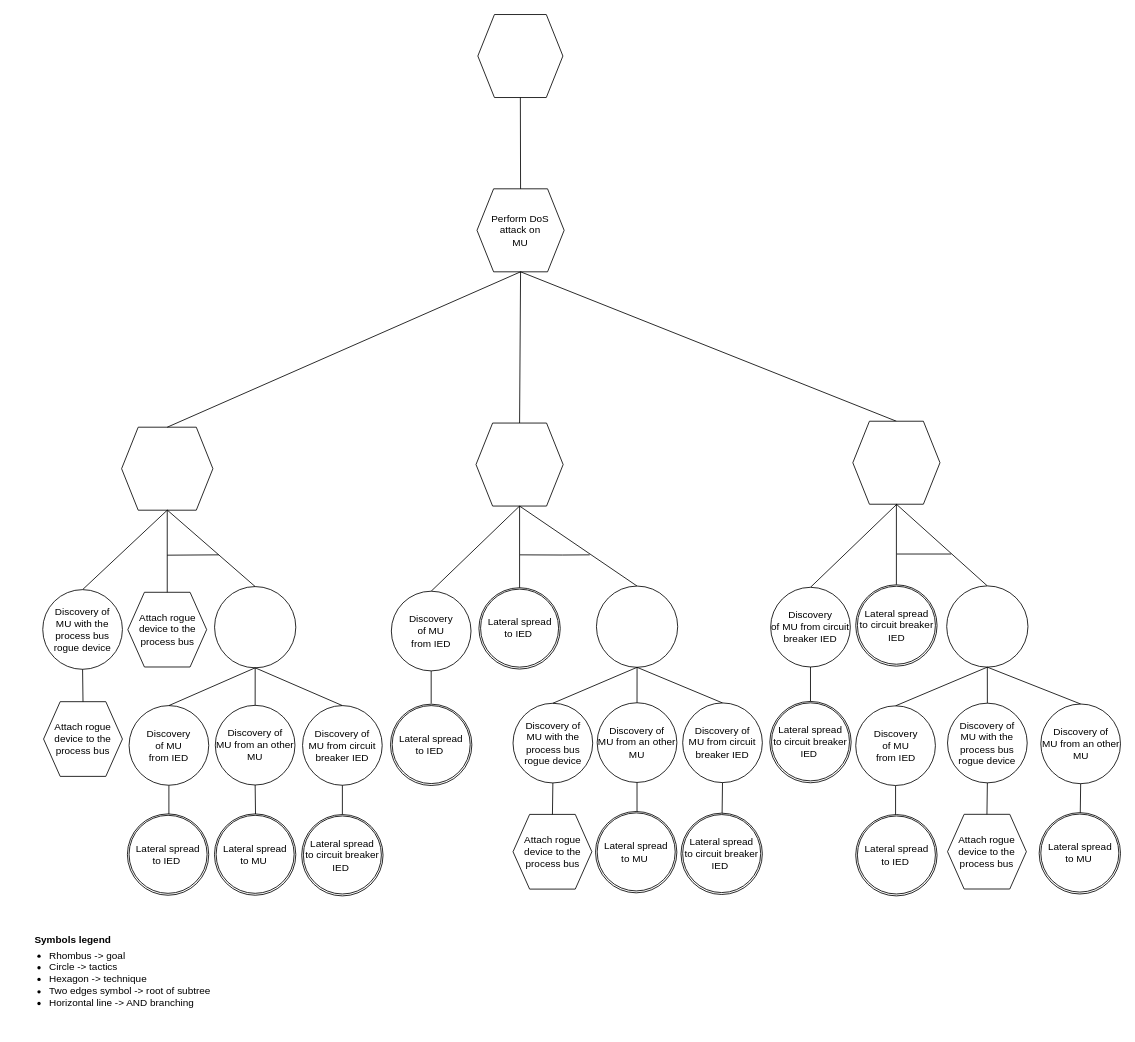
This 1135x1042 diagram has some shape labels left out. Here are the shapes that lost their labels. From the top down, the box of each, then its label:
(477, 14, 563, 98): Perform DoS attack
(121, 426, 213, 510): Perform DoS attack on MU with the process bus rogue device
(475, 422, 563, 506): Perform DoS attack on MU from IED
(852, 420, 940, 504): Perform DoS attack on MU from circuit breaker IED
(214, 586, 296, 668): Discovery of MU without a rogue device
(596, 585, 678, 667): Discovery of MU not from IED
(946, 585, 1028, 667): Discovery of MU not from circuit breaker IED
